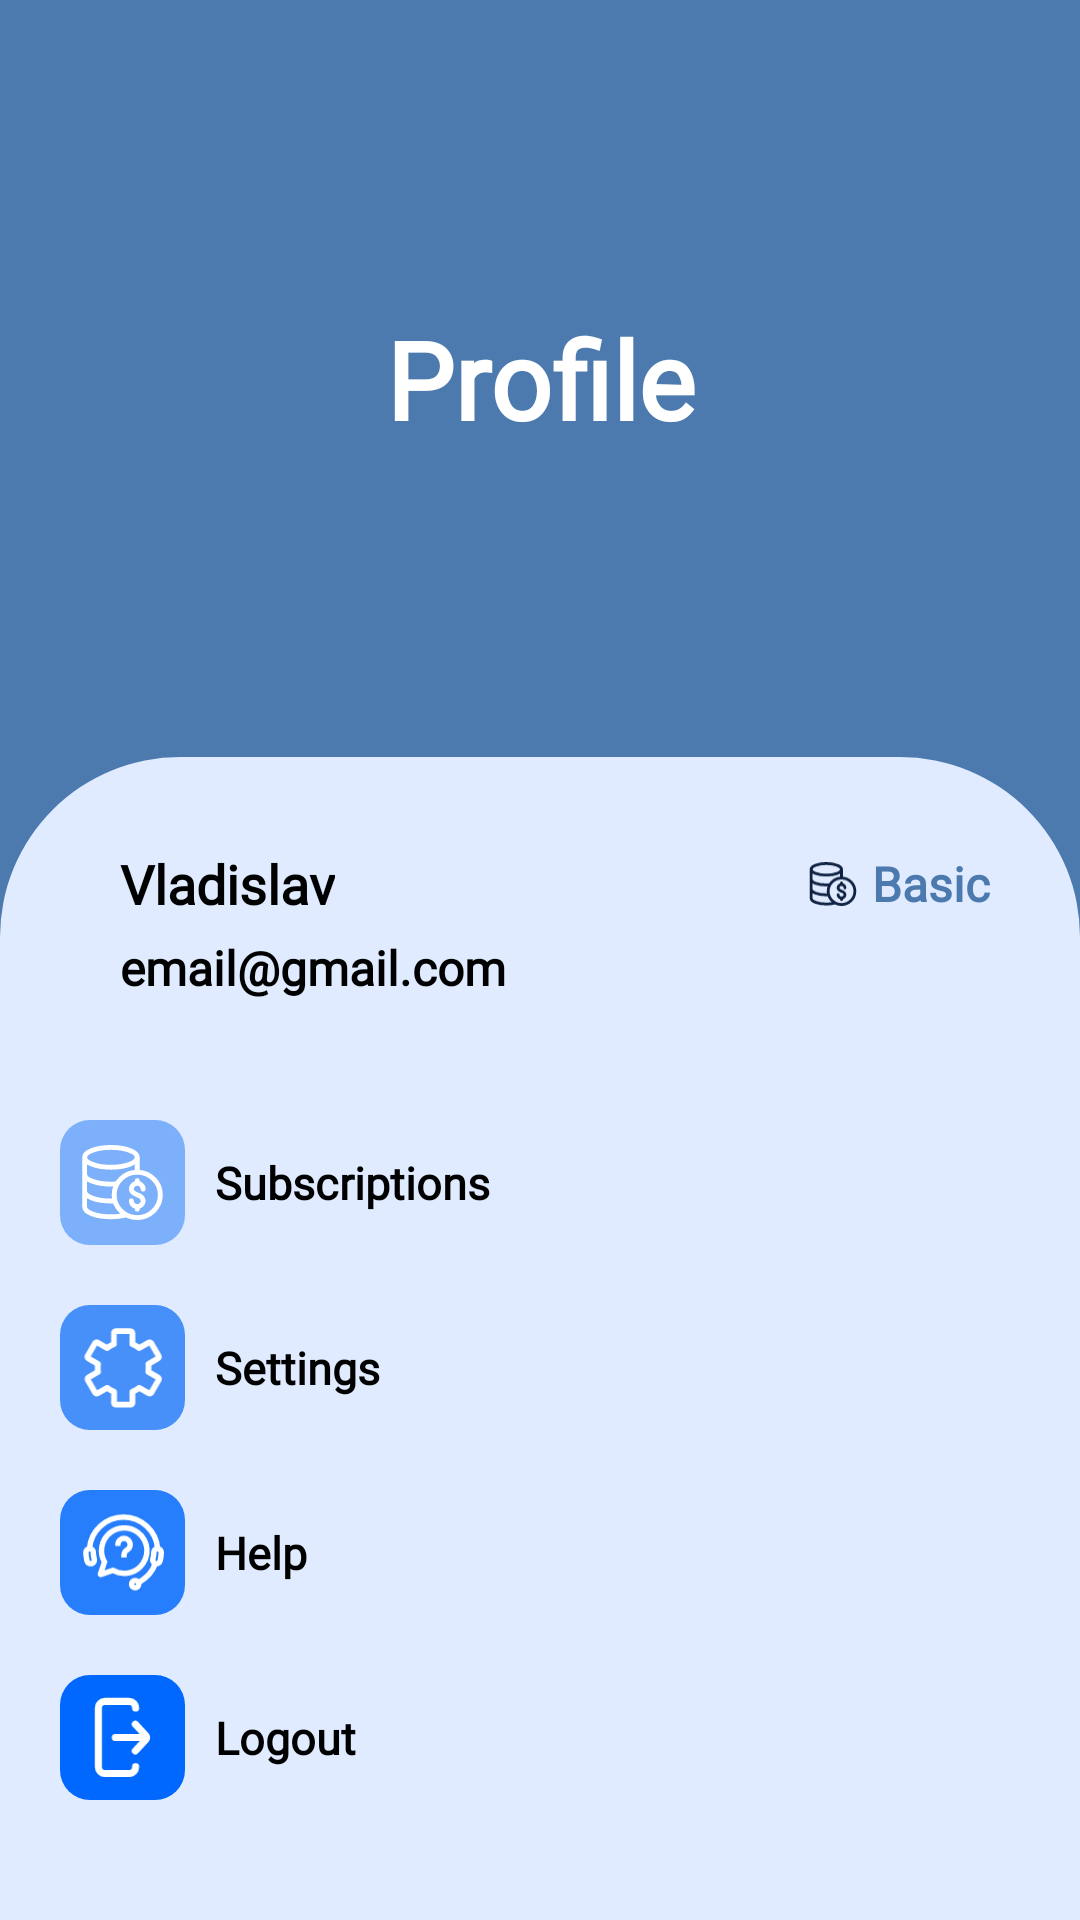

Screen size 1080px×1920px. Icon name, then its box in pixels as [x1,y1,x2,y2]:
exit: [60,1675,185,1800]
